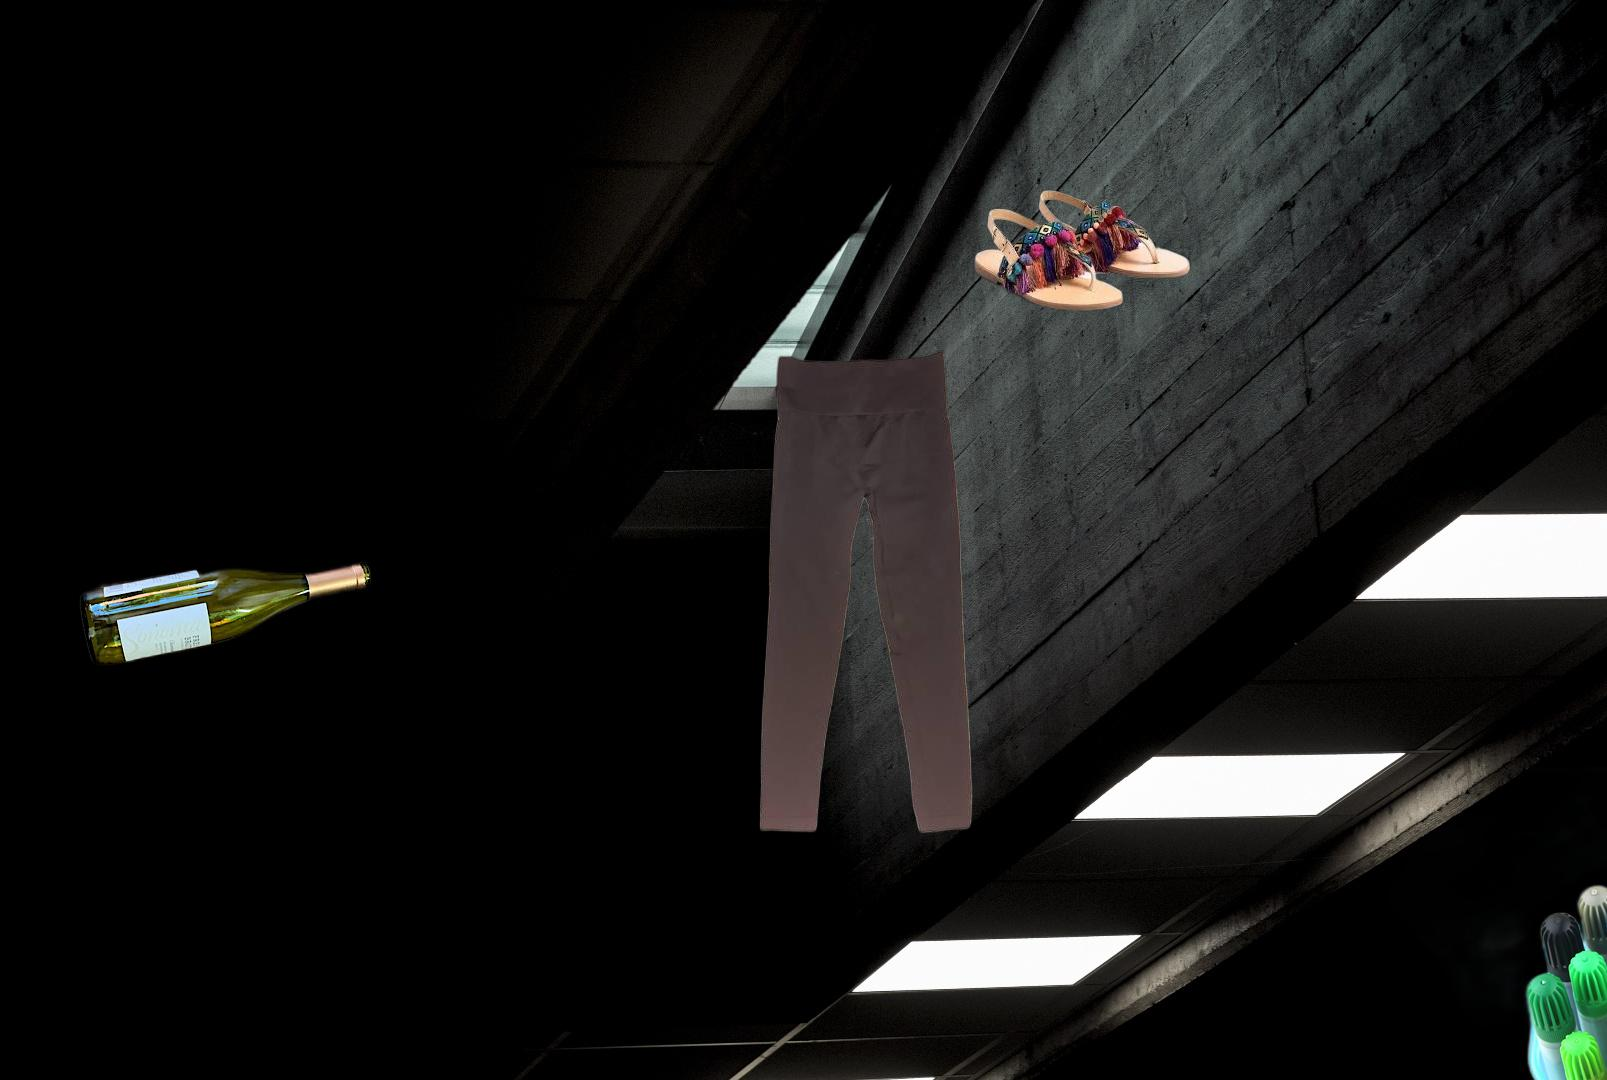clothes: (756, 346, 975, 838)
glass: (75, 557, 375, 671)
penholder: (1368, 765, 1607, 1080)
shoes: (970, 187, 1193, 315)
